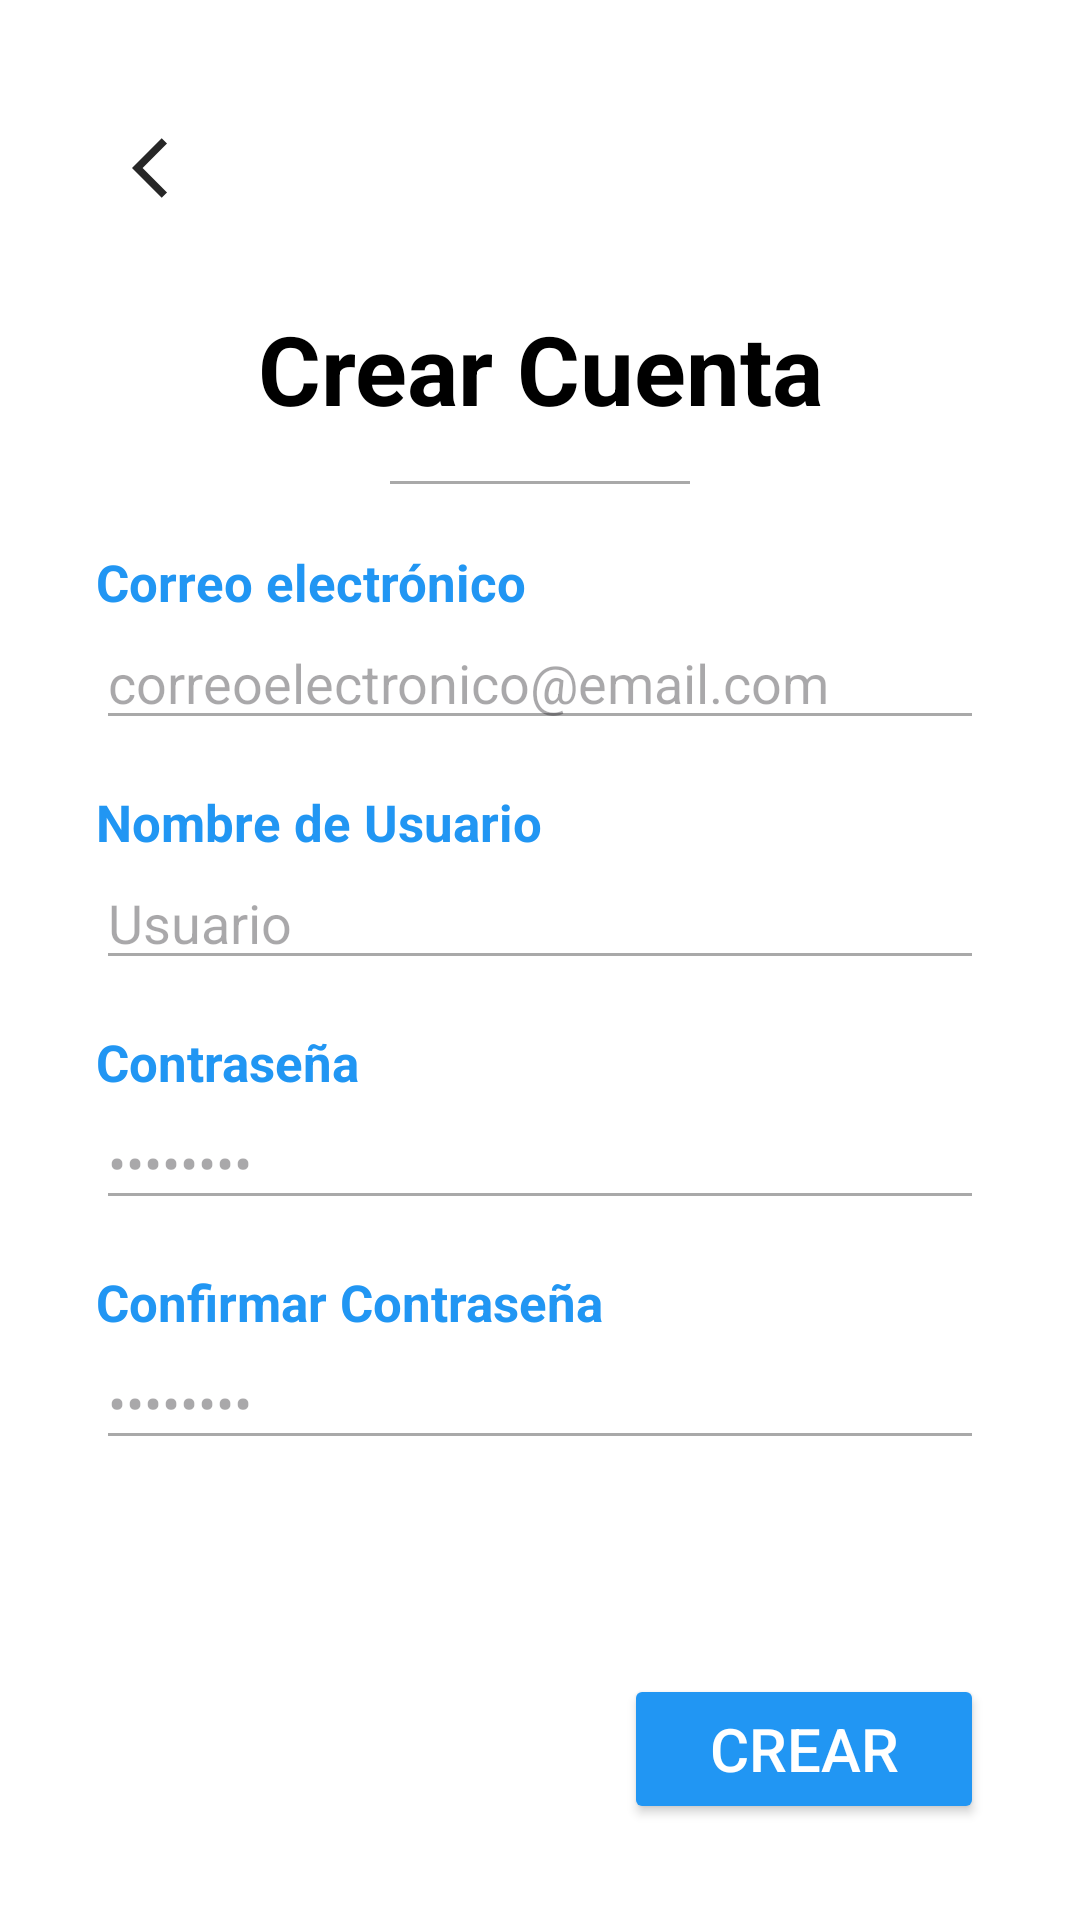

Where icons sit on this 1080 x 1920 app screen, as (x1, y1, x2, y2):
Volver al Login: (132, 138, 167, 198)
